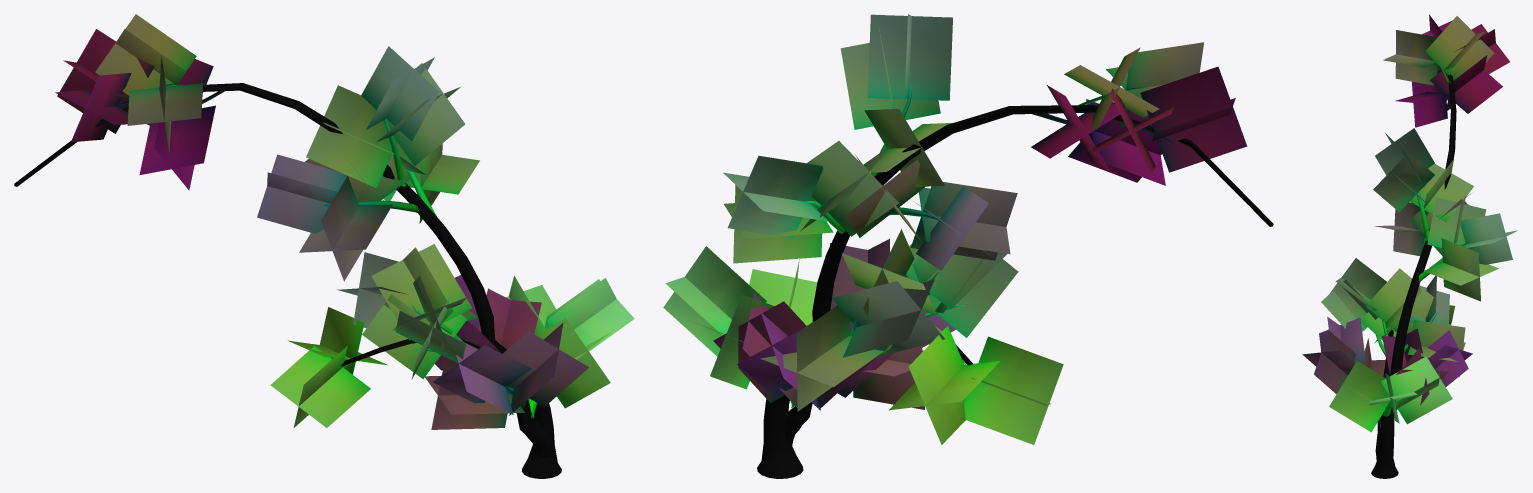
File: URP_P5_Tree_11_LOD_1.fbx
3 renders of one model, left to right at view 1: azimuth 30°, elevation 25°; view 2: azimuth 150°, elevation 25°; view 3: azimuth 270°, elevation 25°, orthographic. The views are drawn at different scales.
Visible parts, largest first — view 1: Tree_11_LOD_1; view 2: Tree_11_LOD_1; view 3: Tree_11_LOD_1.
Part boxes in pixels (x1,y1,x2,y2): Tree_11_LOD_1: (14, 14, 634, 478); Tree_11_LOD_1: (663, 14, 1273, 478); Tree_11_LOD_1: (1302, 14, 1517, 478).
Bounding box in the file's own units: 730 × 601 × 351.
